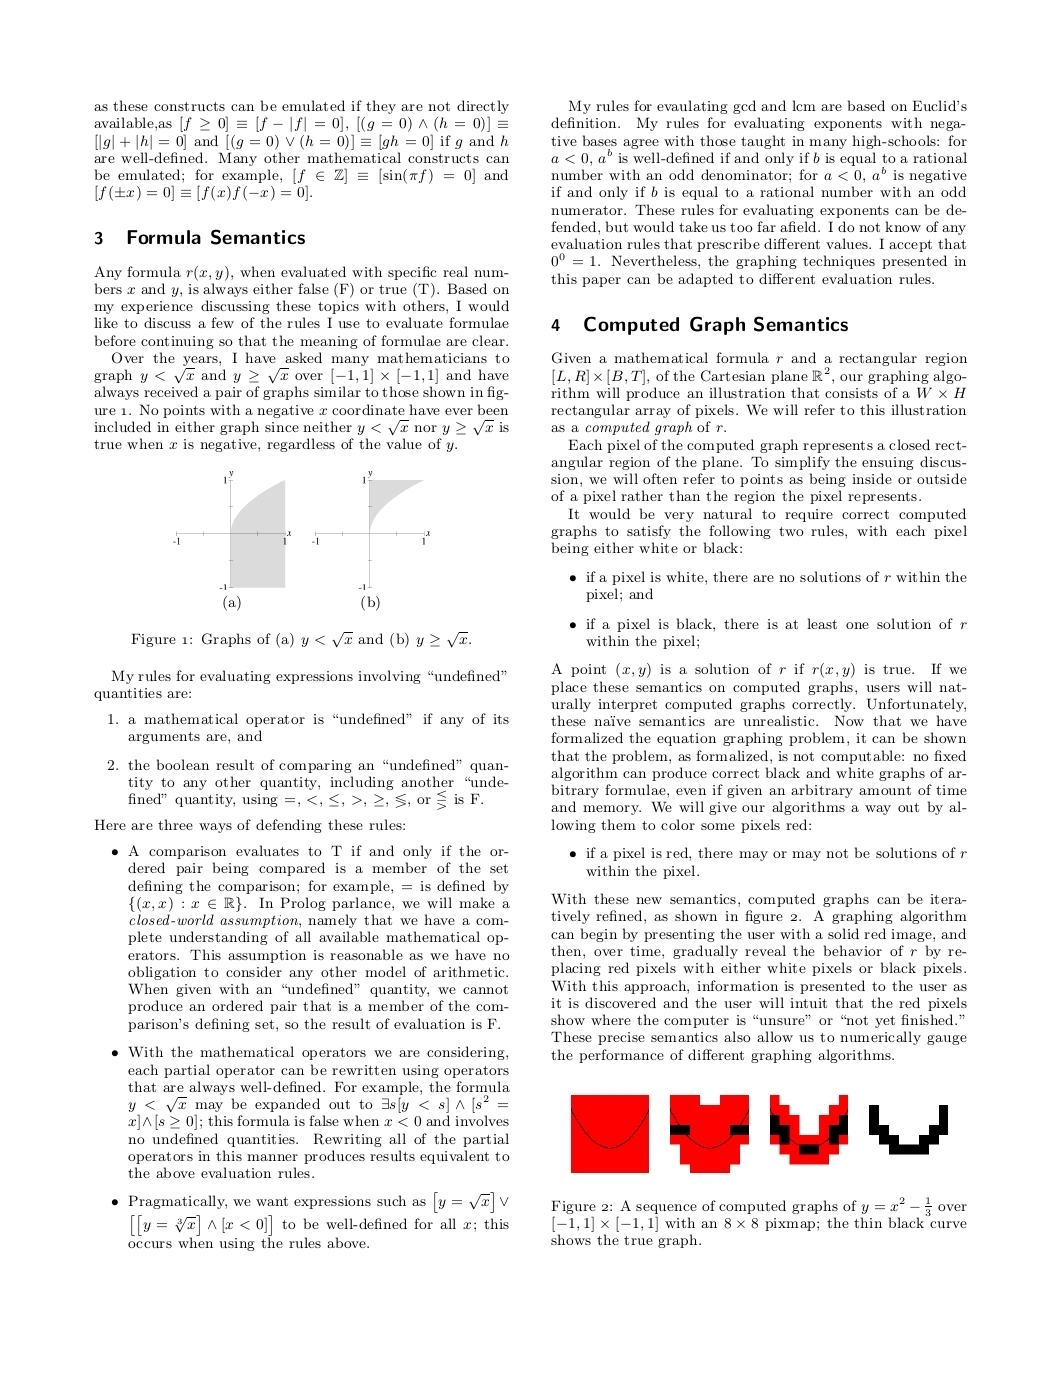figure: (173, 471, 290, 590), (312, 471, 429, 590), (570, 1094, 649, 1174), (670, 1094, 749, 1174), (770, 1094, 847, 1163), (869, 1106, 947, 1153)
formula: (95, 185, 311, 199)
